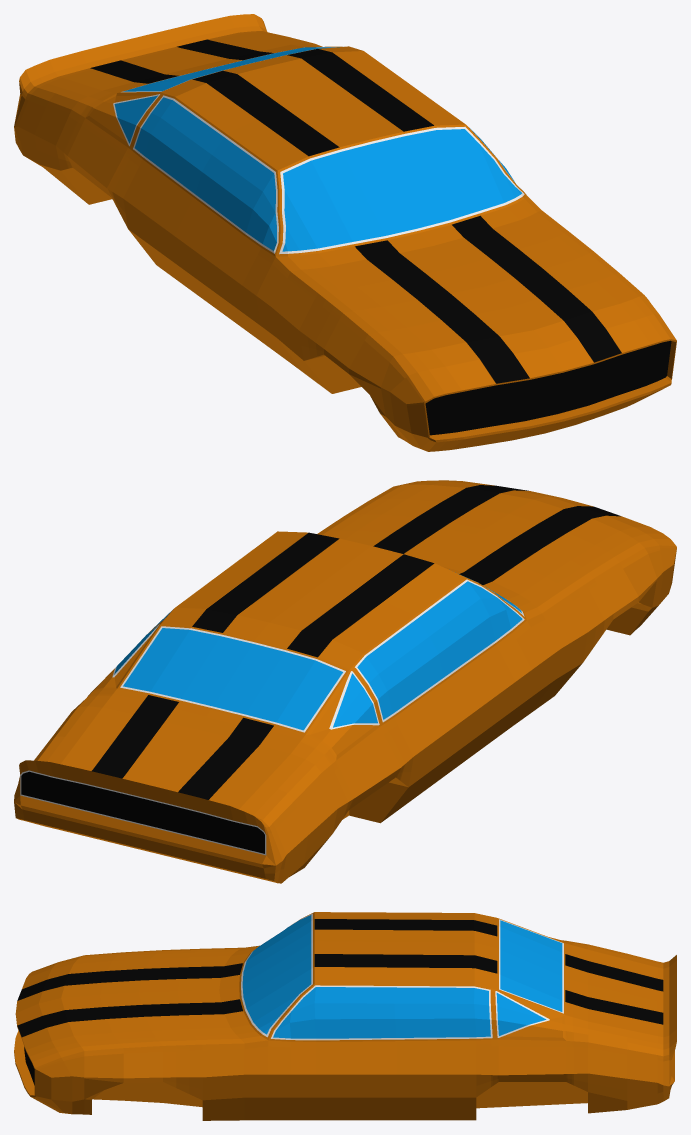
File: Camaro Exterieur V2 Body.fbx
3 renders of one model, top to bottom at view 1: azimuth 30°, elevation 25°; view 2: azimuth 150°, elevation 25°; view 3: azimuth 270°, elevation 25°, orthographic. The views are drawn at different scales.
Visible parts, largest first — view 1: Body; view 2: Body; view 3: Body.
Boxes of the visible parts, x1,y1,x2,y2 form: Body: [14, 14, 676, 451]; Body: [14, 480, 676, 883]; Body: [14, 912, 676, 1120].
Size of the model in its own units: 187 by 107 by 468.
